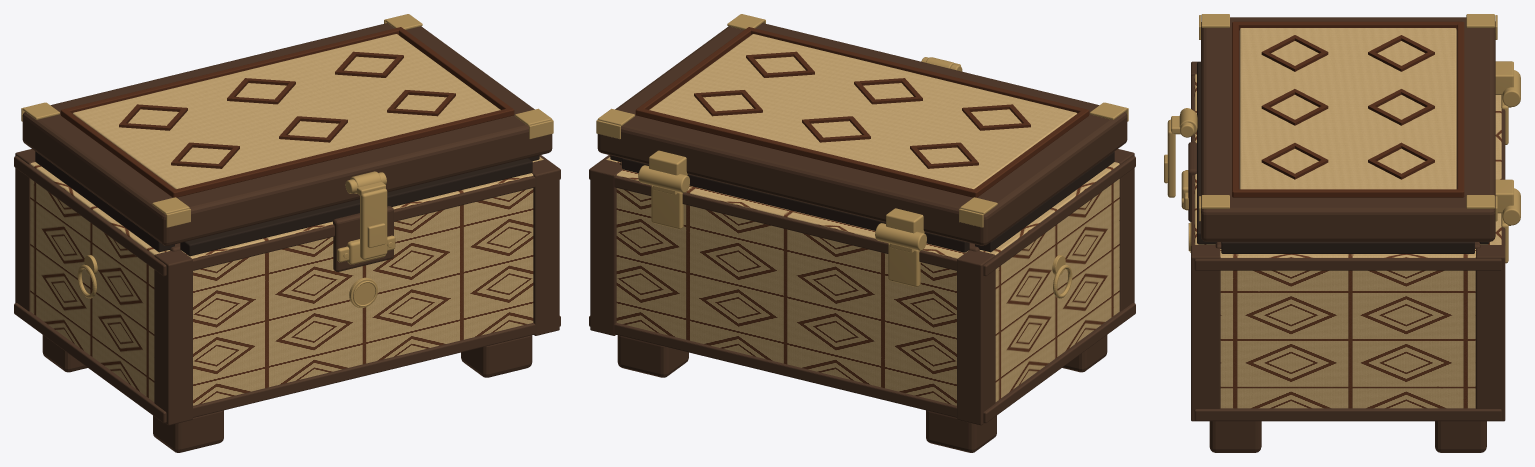
Rendered from tonga.glb.
The picture shows the model from 3 angles, left to right: view 1: azimuth 30°, elevation 25°; view 2: azimuth 150°, elevation 25°; view 3: azimuth 270°, elevation 25°; orthographic projection. The views are drawn at different scales.
Visible parts, largest first — view 1: Ngatu / broad panel, Lid / ngatu panel, Lid / polished slab, Ngatu / side panel, Timber / corner, Seam / long, Timber / corner.002, Timber / long rail, Timber / long rail.002, Lid / border long, Timber / corner.001, Timber / short rail.002 (+17 smaller); view 2: Ngatu / broad panel.001, Lid / ngatu panel, Lid / polished slab, Ngatu / side panel, Timber / corner.001, Timber / corner.003, Timber / long rail.001, Timber / long rail.003, Lid / border long.001, Seam / long.001, Timber / corner, Timber / short rail.002 (+20 smaller); view 3: Ngatu / side panel.001, Lid / ngatu panel, Lid / polished slab, Timber / corner.003, Timber / corner.002, Timber / short rail.001, Timber / short rail.003, Seam / side.001, Lid / border short.001, Timber / foot.002, Timber / foot.003, Lid / border short (+23 smaller).
Boxes of the visible parts, <box> form: Ngatu / broad panel: <box>181,173,533,405</box>; Lid / ngatu panel: <box>72,34,500,189</box>; Lid / polished slab: <box>22,23,552,245</box>; Ngatu / side panel: <box>30,162,170,401</box>; Timber / corner: <box>154,250,192,425</box>; Seam / long: <box>180,158,532,256</box>; Timber / corner.002: <box>532,159,559,335</box>; Timber / long rail: <box>192,323,535,417</box>; Timber / long rail.002: <box>192,176,535,270</box>; Lid / border long: <box>172,108,514,197</box>; Timber / corner.001: <box>15,149,35,311</box>; Timber / short rail.002: <box>14,156,166,276</box>; Ngatu / broad panel.001: <box>616,169,968,405</box>; Lid / ngatu panel: <box>649,34,1077,189</box>; Lid / polished slab: <box>597,23,1127,245</box>; Ngatu / side panel: <box>979,162,1119,401</box>; Timber / corner.001: <box>957,250,995,425</box>; Timber / corner.003: <box>590,159,622,335</box>; Timber / long rail.001: <box>614,323,957,417</box>; Timber / long rail.003: <box>614,176,957,270</box>; Lid / border long.001: <box>635,108,976,197</box>; Seam / long.001: <box>622,158,969,252</box>; Timber / corner: <box>1114,149,1134,311</box>; Timber / short rail.002: <box>983,156,1135,276</box>; Ngatu / side panel.001: <box>1220,249,1475,408</box>; Lid / ngatu panel: <box>1240,28,1456,189</box>; Lid / polished slab: <box>1201,17,1495,241</box>; Timber / corner.003: <box>1475,245,1505,421</box>; Timber / corner.002: <box>1191,245,1220,421</box>; Timber / short rail.001: <box>1194,408,1501,421</box>; Timber / short rail.003: <box>1194,258,1501,270</box>; Seam / side.001: <box>1221,242,1474,253</box>; Lid / border short.001: <box>1233,189,1462,197</box>; Timber / foot.002: <box>1209,421,1261,452</box>; Timber / foot.003: <box>1435,421,1486,452</box>; Lid / border short: <box>1234,21,1462,30</box>.
Size of the model in its own units: 3.82 by 2.31 by 2.88.
Materials: 6 (2 with a texture image).
